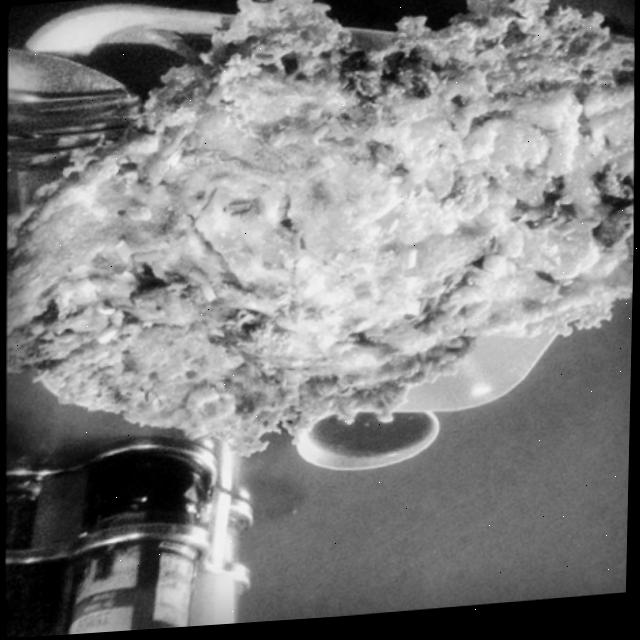炸货点心: (3, 0, 640, 473)
蛋糕甜品: (3, 0, 640, 473)
